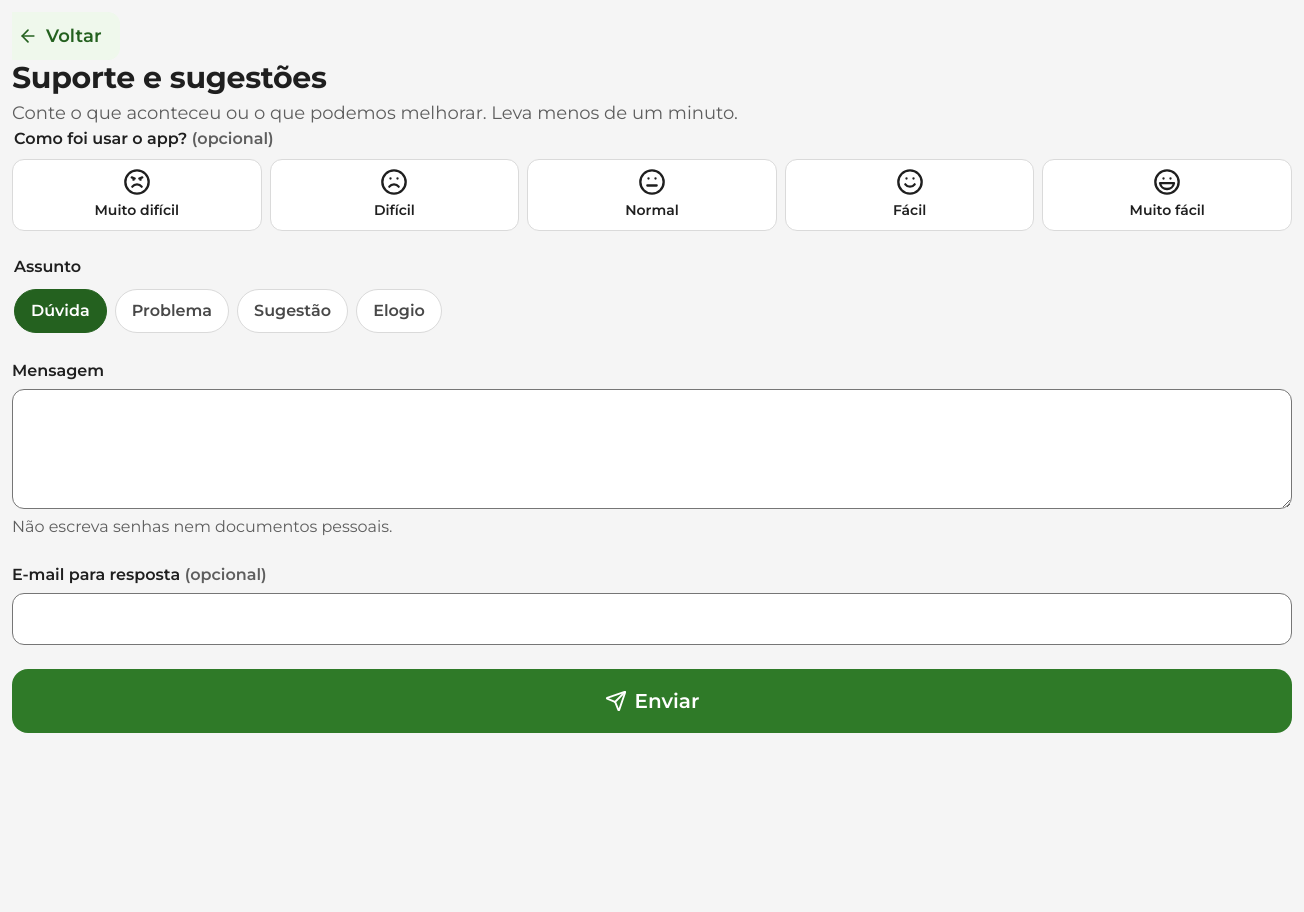
Scenario: demais telas › suporte valida mensagem e envia
The width and height of the screenshot is (1304, 912).
Click the button "Enviar" at (652, 701), box [12,669,1292,733]
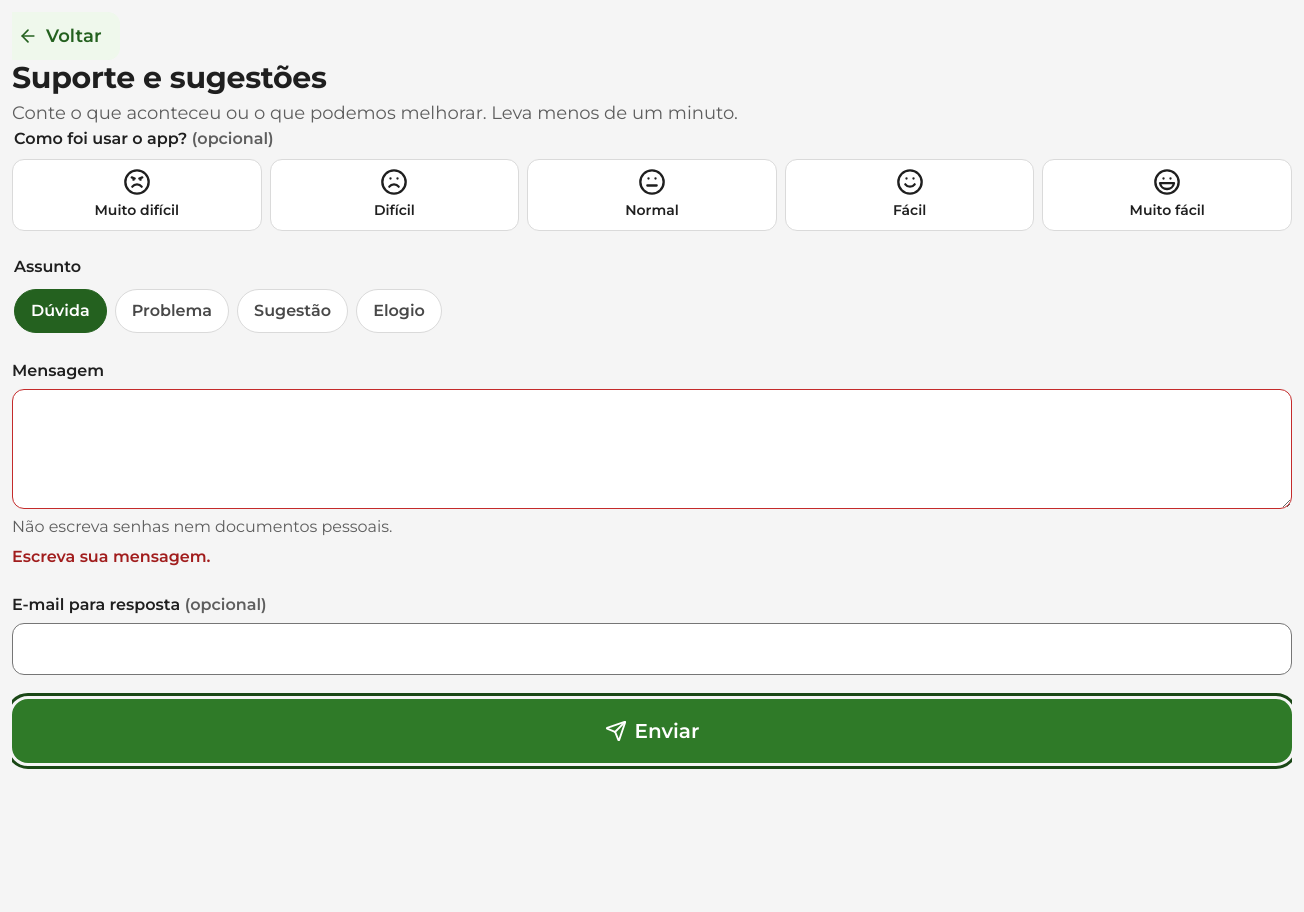
Result: the text "Escreva sua mensagem." is shown at [12,547,210,566]
Click the radio button labelled "Fácil" at (910, 195), box [785,159,1034,231]
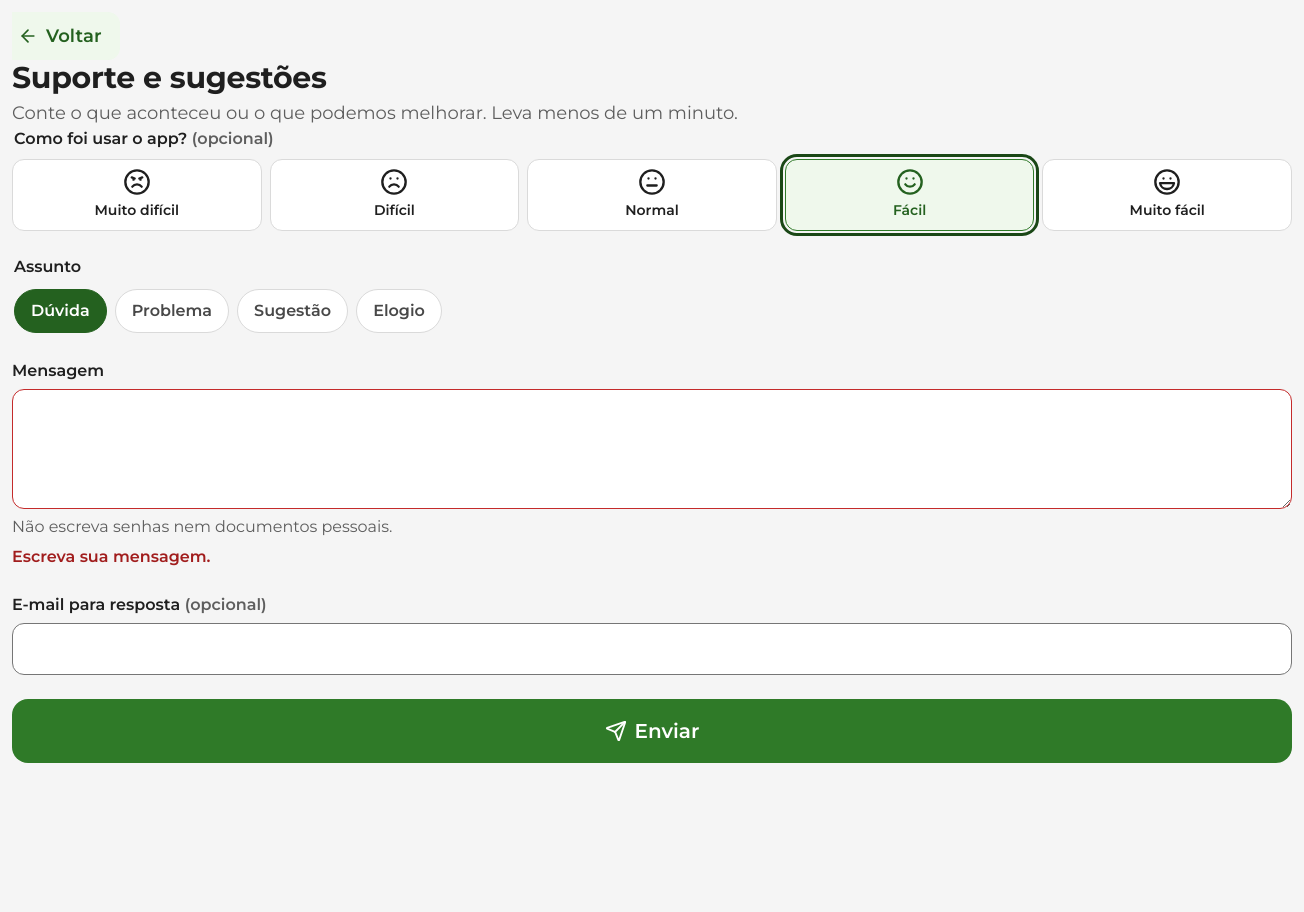
Type "Gostei do app" into the text box labelled "Mensagem" at (652, 449), box [12,389,1292,509]
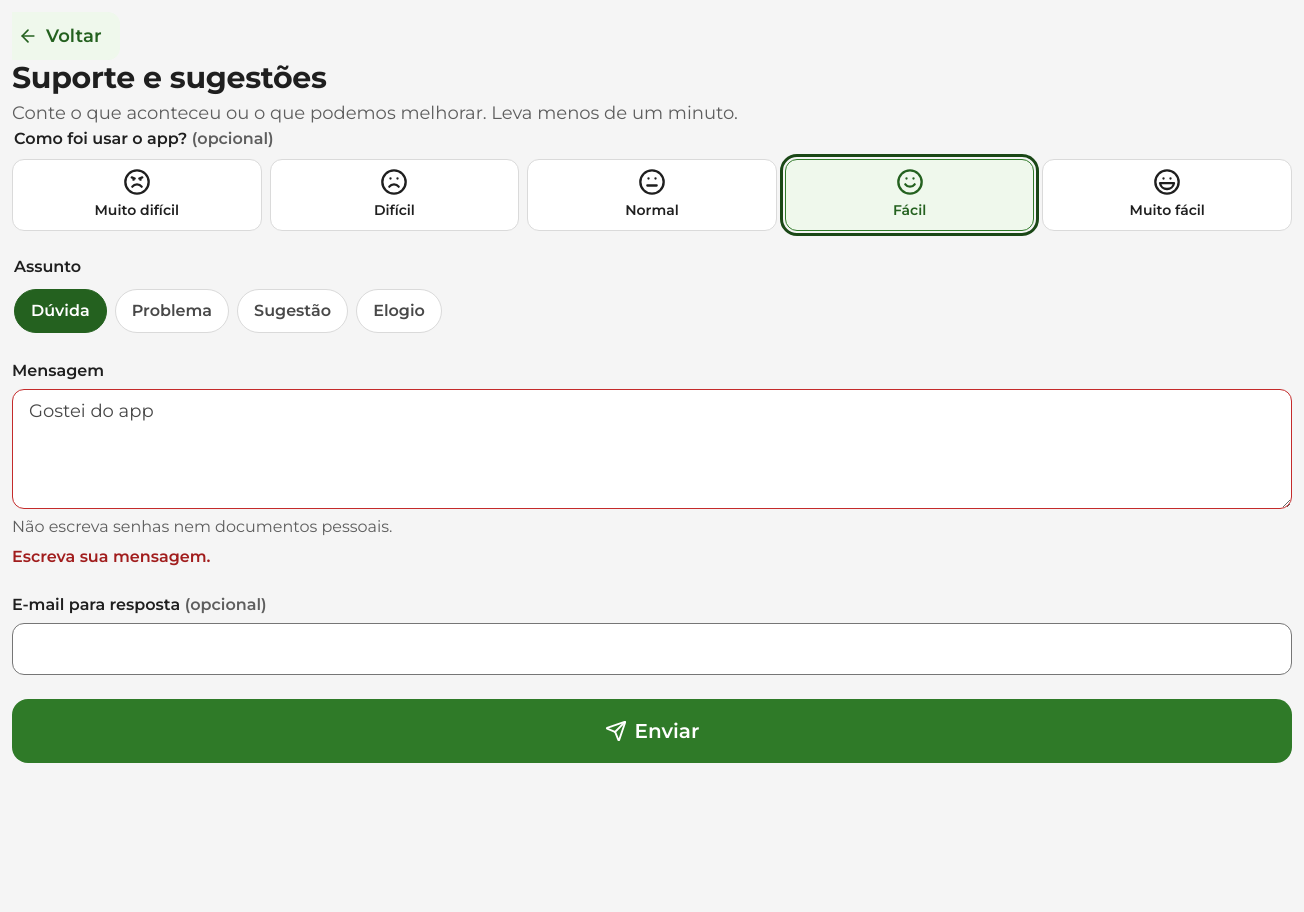
Click the button "Enviar" at (652, 731), box [12,699,1292,763]
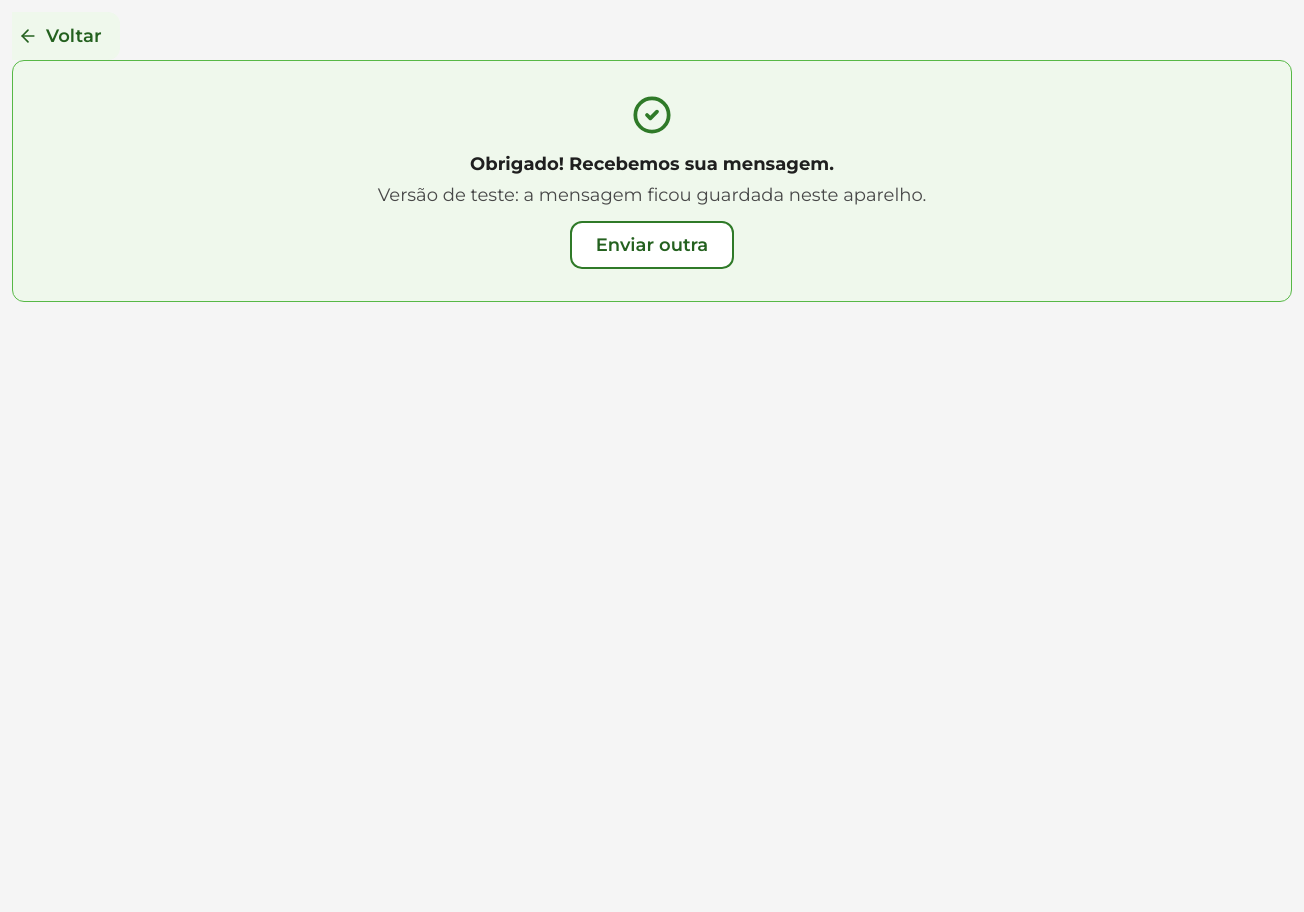
Result: the text "Obrigado! Recebemos sua mensagem." is shown at [470,153,834,175]
